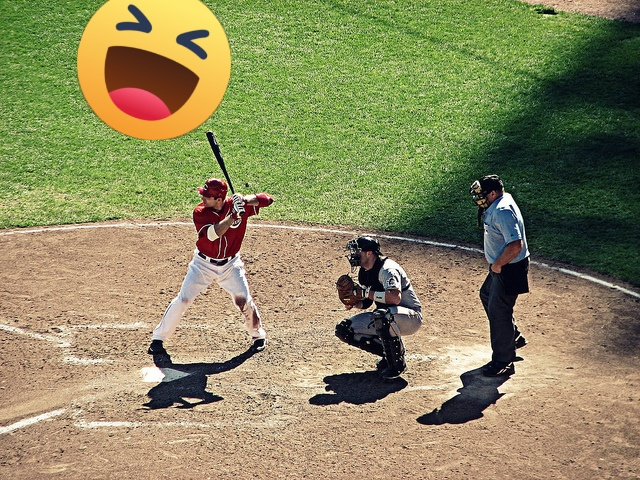haha: (77, 0, 231, 140)
